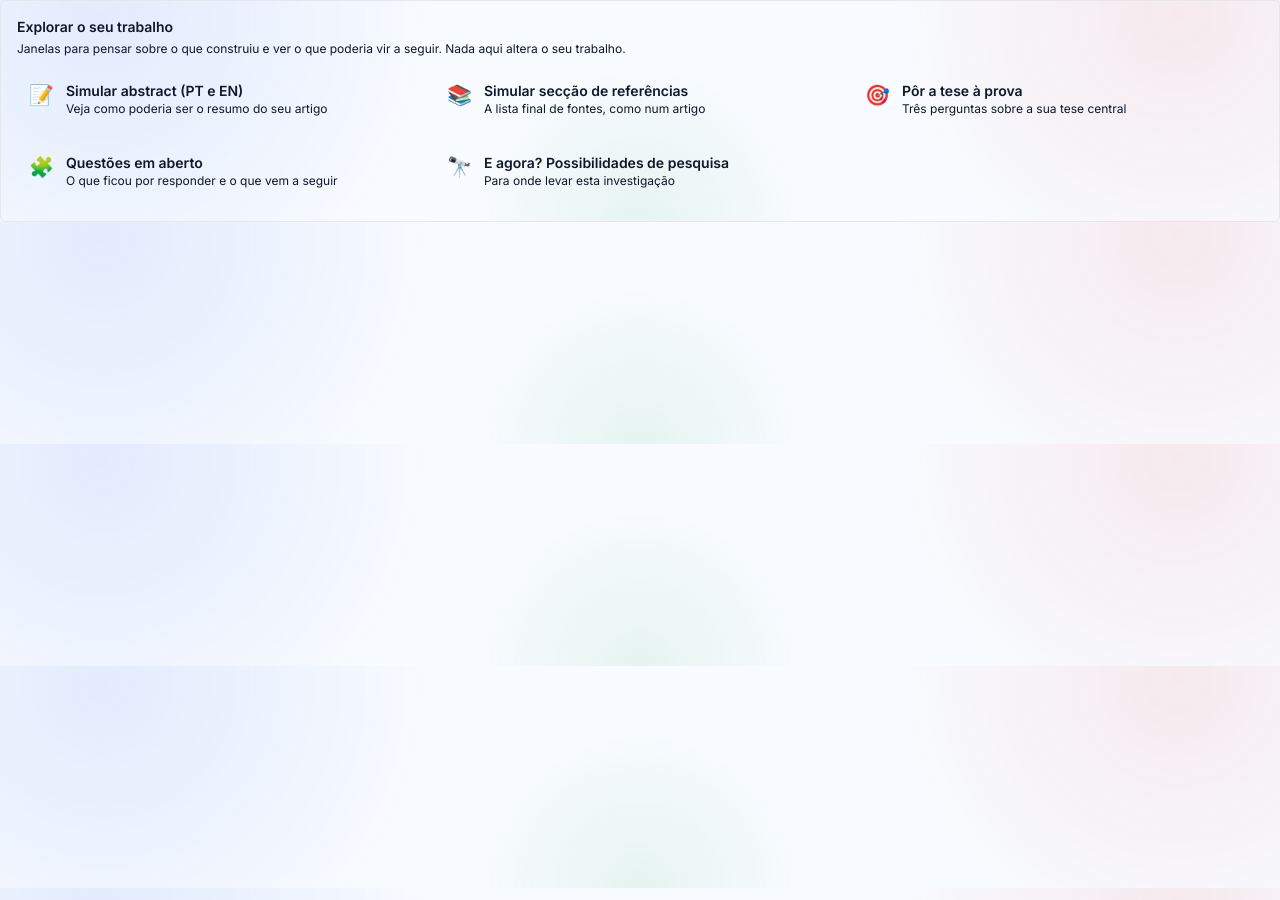
Scenario: Step 9 exploration pop-ups › simulates the abstract in Portuguese and English, with the pedagogical notice
Click the button "Simular abstract". click: point(222, 101)
box: [17, 69, 427, 133]
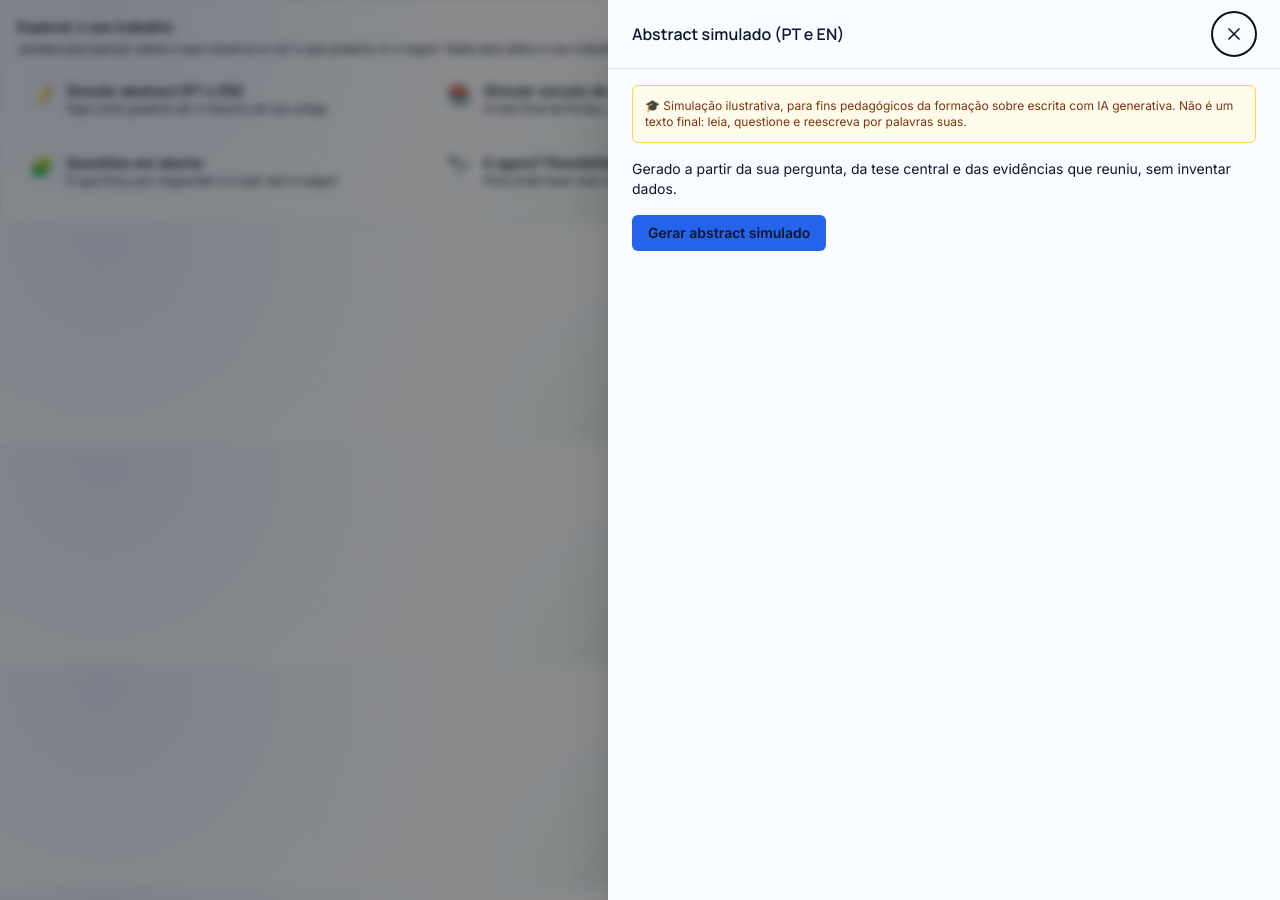
Expected: the text "Simulação ilustrativa" is shown, [645, 98, 1233, 129]
Click the button "Gerar abstract simulado". click: point(729, 233)
box: [632, 215, 826, 251]
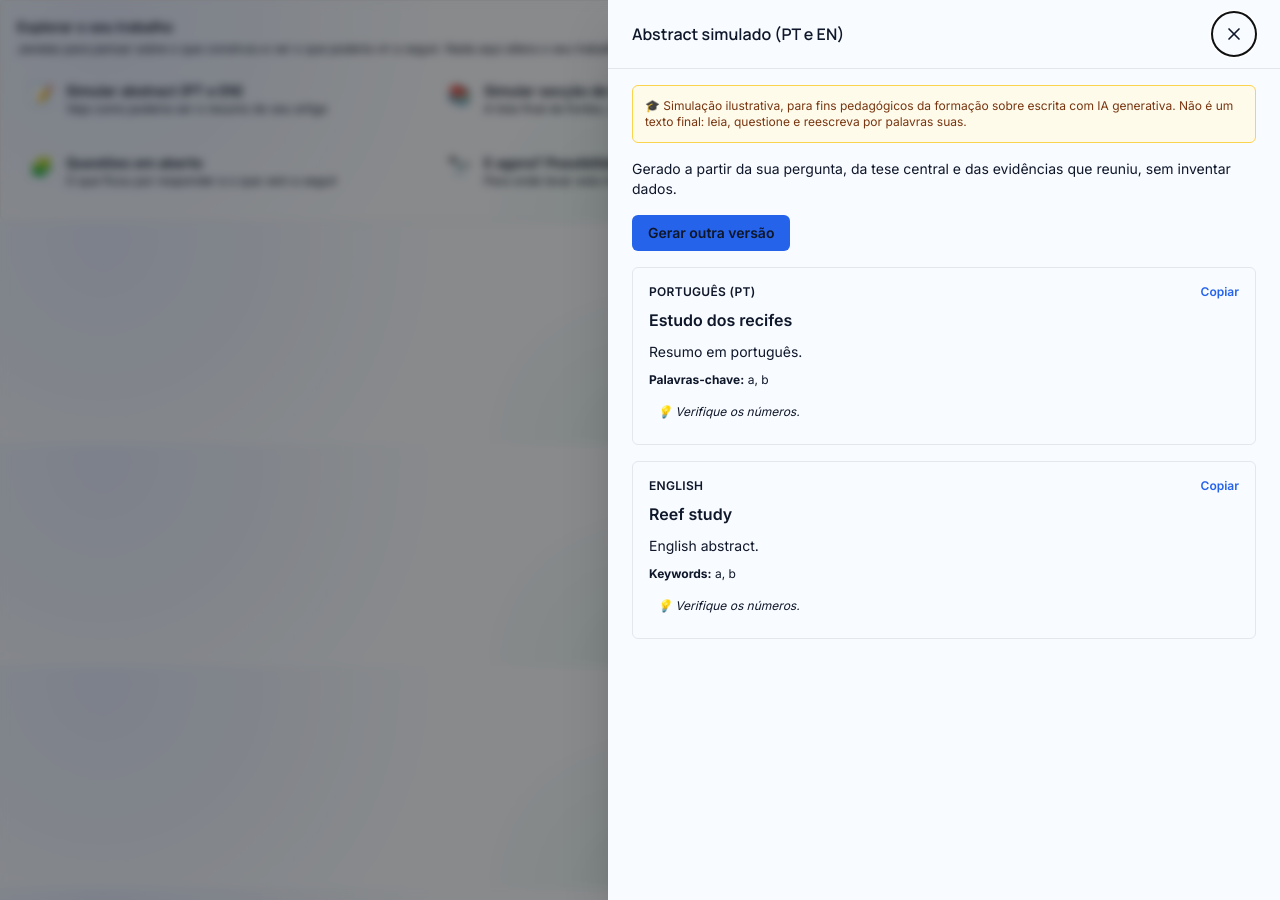
Expected: the text "English abstract." is shown, [649, 537, 759, 554]
Expected: the text "Resumo em português." is shown, [649, 343, 802, 360]
